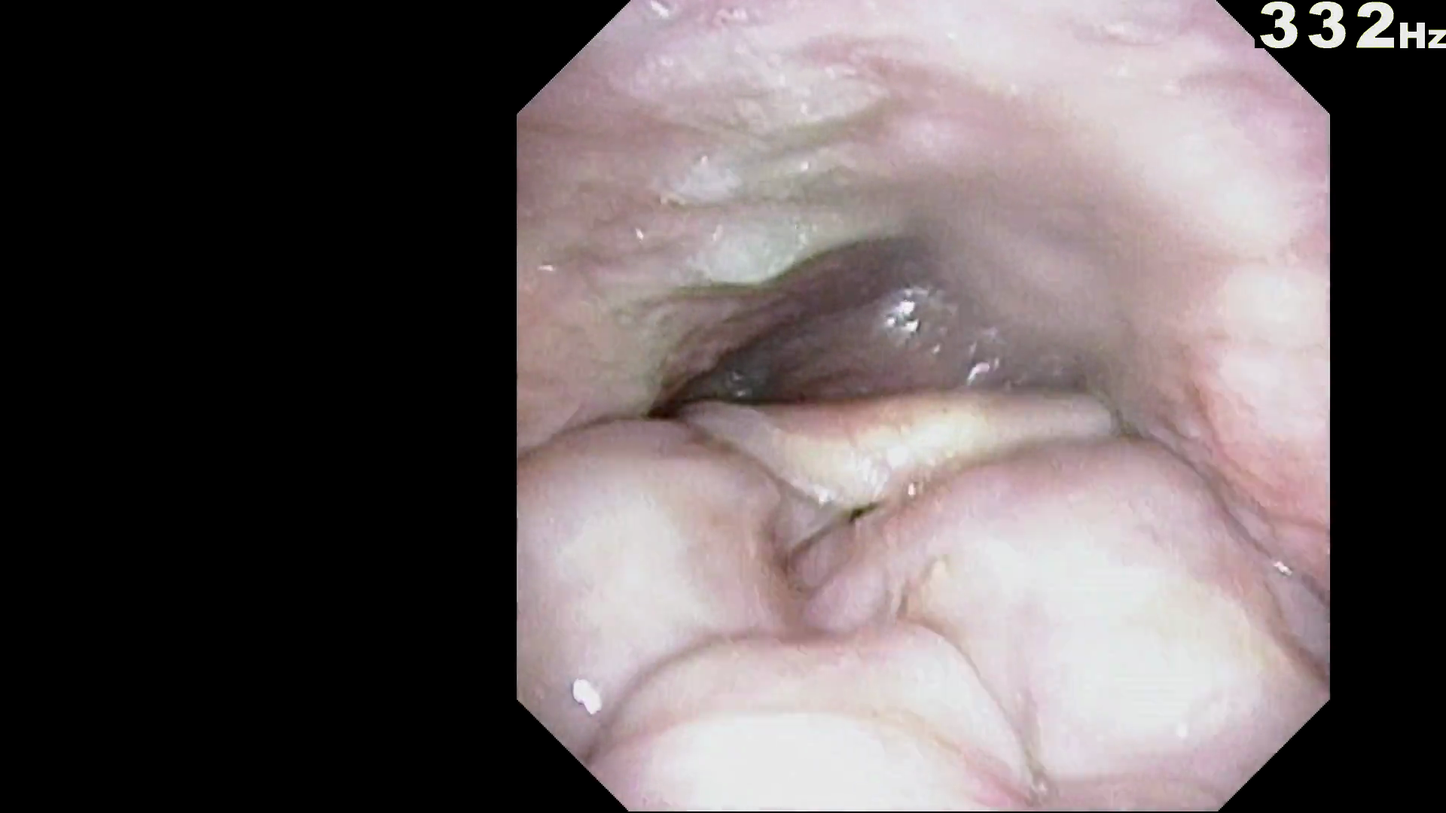epiglottis: (661, 390, 1103, 506)
trachea: (859, 417, 982, 514)
